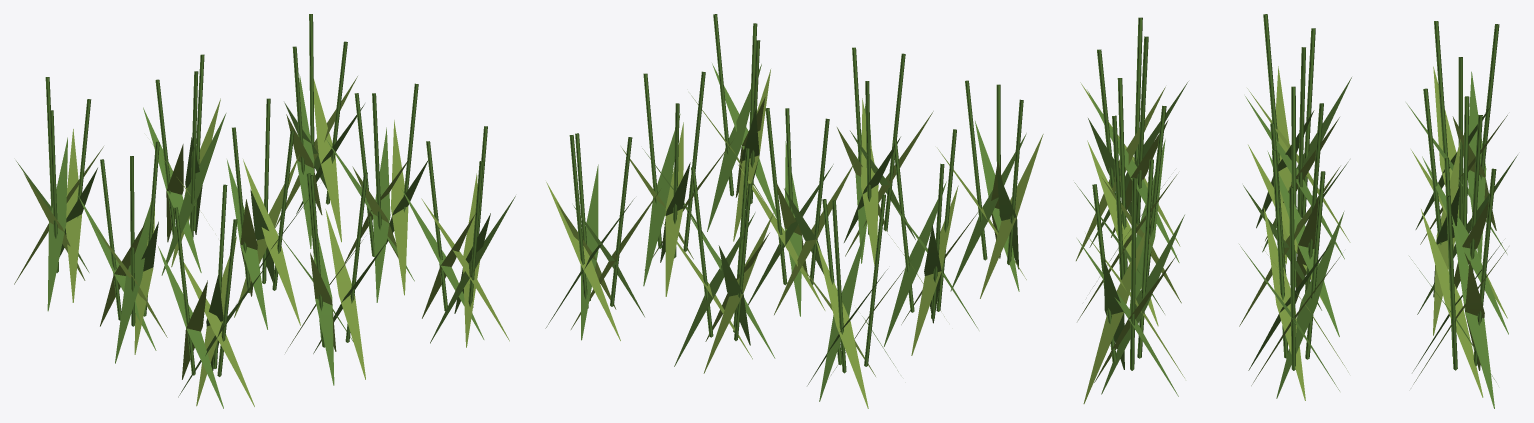
The model's file is crop-cell-rice-young.gltf.
3 views of the same model, side by side, from view 1: azimuth 30°, elevation 25°; view 2: azimuth 150°, elevation 25°; view 3: azimuth 270°, elevation 25° (orthographic). The views are drawn at different scales.
Parts seen in each view (by area): view 1: crop-cell-rice-young; view 2: crop-cell-rice-young; view 3: crop-cell-rice-young.
Boxes of the visible parts, left/top/right/bottom form: crop-cell-rice-young: left=14, top=14, right=515, bottom=408; crop-cell-rice-young: left=545, top=14, right=1043, bottom=408; crop-cell-rice-young: left=1074, top=14, right=1517, bottom=408.
Bounding box in the file's own units: 0.528 × 0.2858 × 0.5139.
